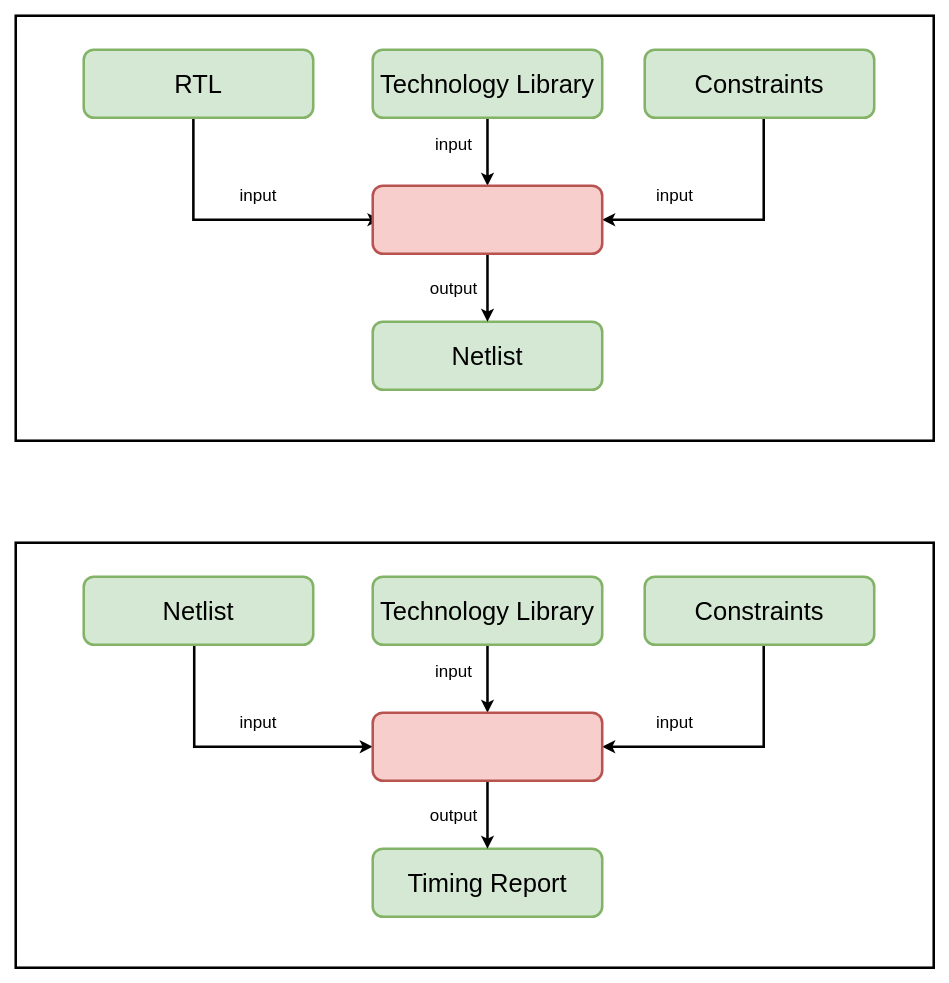
This 949x983 diagram has some shape labels left out. Each missing label, with the centre of its shape:
Logic Synthesis: the point at 487,219
STA: the point at 487,746
